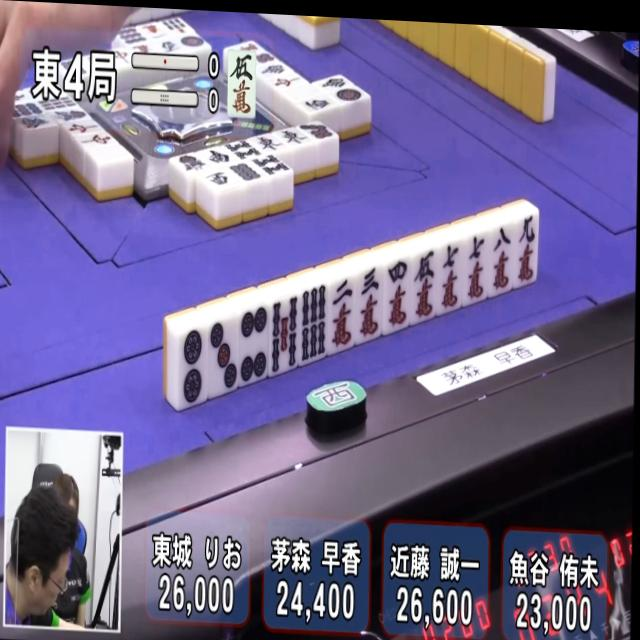m2: (327, 274, 359, 352)
m3: (353, 266, 387, 345)
m4: (380, 257, 415, 334)
m5: (409, 246, 443, 324)
m7: (460, 231, 492, 306), (438, 240, 469, 315)
m8: (485, 222, 518, 299)
m9: (513, 207, 541, 288)
s5: (265, 296, 301, 379)
s6: (297, 283, 331, 367)
t2: (172, 322, 210, 411)
t3: (204, 318, 241, 399)
t4: (235, 304, 271, 388)
